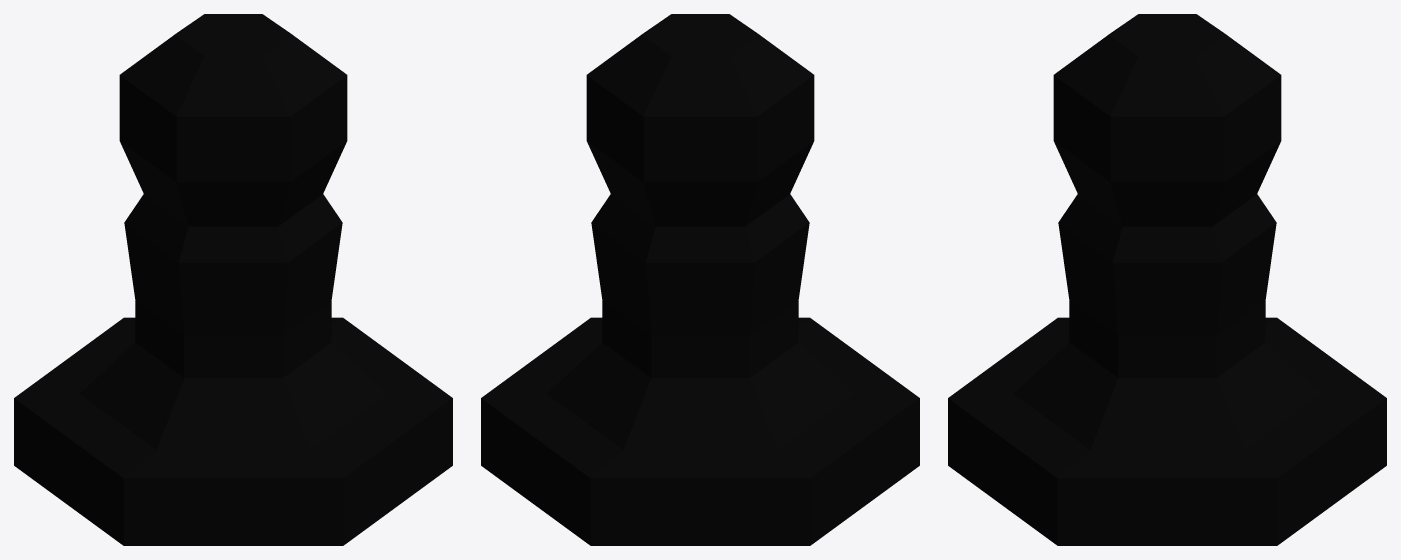
File: chesspiecepawn02.gltf
The picture shows the model from 3 angles, left to right: view 1: azimuth 30°, elevation 25°; view 2: azimuth 150°, elevation 25°; view 3: azimuth 270°, elevation 25°; orthographic projection.
Visible parts, largest first — view 1: Cylinder; view 2: Cylinder; view 3: Cylinder.
Boxes of the visible parts, x1,y1,x2,y2 form: Cylinder: (14,14,452,545); Cylinder: (481,14,919,545); Cylinder: (948,14,1386,545).
Size of the model in its own units: 0.0177 by 0.0221 by 0.0204.
Materials: 1 (1 with a texture image).
